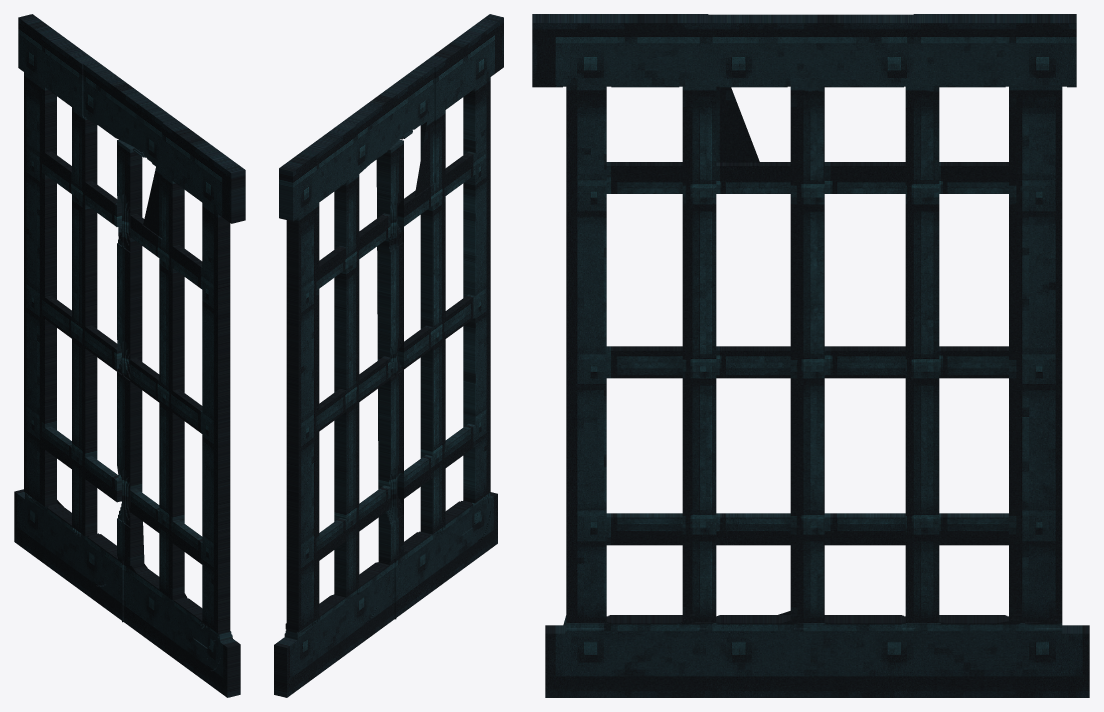
Rendered from TRASNAPRENT_GATE 1.fbx.
3 renders of one model, left to right at view 1: azimuth 30°, elevation 25°; view 2: azimuth 150°, elevation 25°; view 3: azimuth 270°, elevation 25°, orthographic. The views are drawn at different scales.
Parts seen in each view (by area): view 1: ChatGPT Image 10_05_2025, 17_29_03.001; view 2: ChatGPT Image 10_05_2025, 17_29_03.001; view 3: ChatGPT Image 10_05_2025, 17_29_03.001.
Boxes of the visible parts, <box> form: ChatGPT Image 10_05_2025, 17_29_03.001: <box>14,14,245,697</box>; ChatGPT Image 10_05_2025, 17_29_03.001: <box>274,14,503,697</box>; ChatGPT Image 10_05_2025, 17_29_03.001: <box>532,14,1089,697</box>.
Size of the model in its own units: 2.04 by 72.31 by 54.11.
